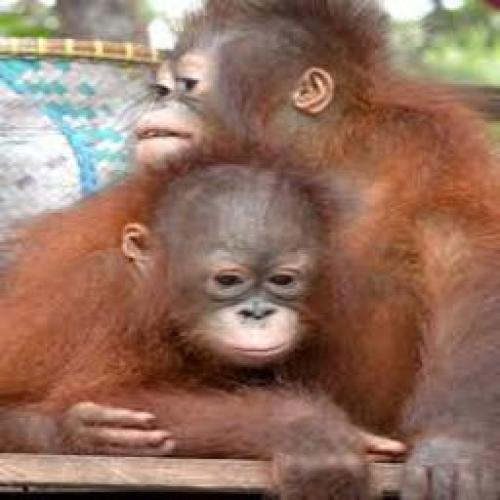orangutan-endangered: (135, 8, 495, 493), (8, 147, 410, 497)
